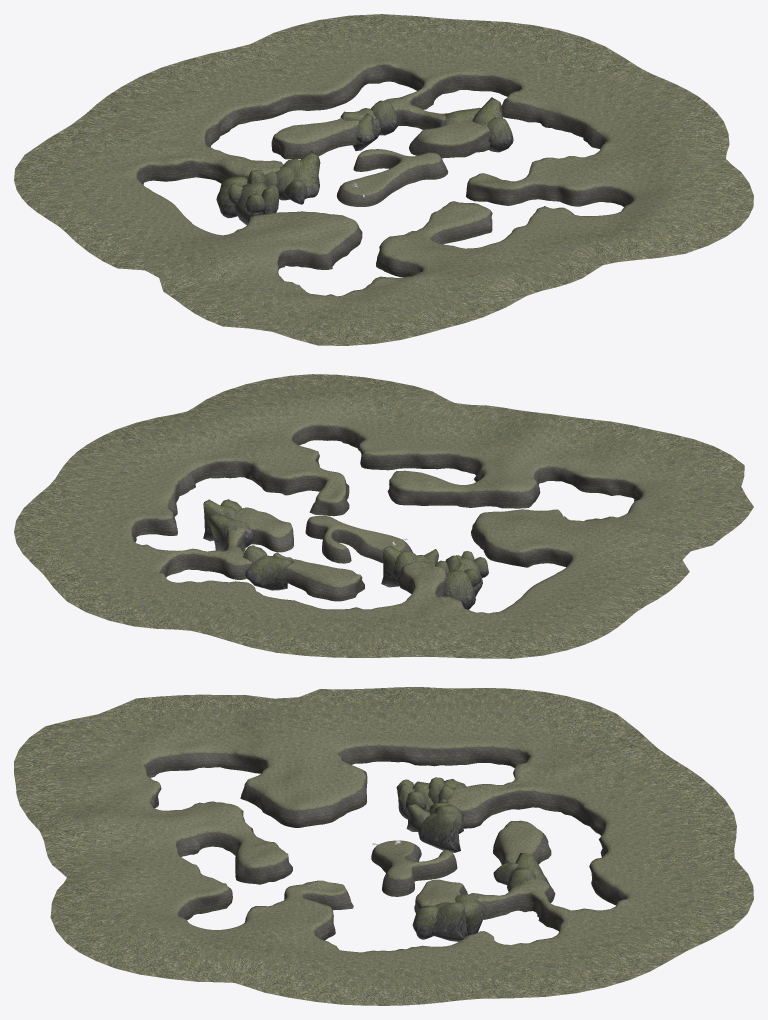
The model's file is Map_Main.dae.
3 views of the same model, one above another, from view 1: azimuth 30°, elevation 25°; view 2: azimuth 150°, elevation 25°; view 3: azimuth 270°, elevation 25° (orthographic). The views are drawn at different scales.
Visible parts, largest first — view 1: MAIN_MAP1_Map_Layout_Main, MAIN_MAP1_Rocks_Large_Main; view 2: MAIN_MAP1_Map_Layout_Main, MAIN_MAP1_Rocks_Large_Main; view 3: MAIN_MAP1_Map_Layout_Main, MAIN_MAP1_Rocks_Large_Main.
Part boxes in pixels (x1,y1,x2,y2): MAIN_MAP1_Map_Layout_Main: (14, 14, 753, 345); MAIN_MAP1_Rocks_Large_Main: (216, 97, 513, 224); MAIN_MAP1_Map_Layout_Main: (14, 374, 753, 658); MAIN_MAP1_Rocks_Large_Main: (203, 499, 488, 609); MAIN_MAP1_Map_Layout_Main: (14, 687, 753, 1005); MAIN_MAP1_Rocks_Large_Main: (396, 777, 549, 941).
Size of the model in its own units: 26520 by 2194 by 26003.
